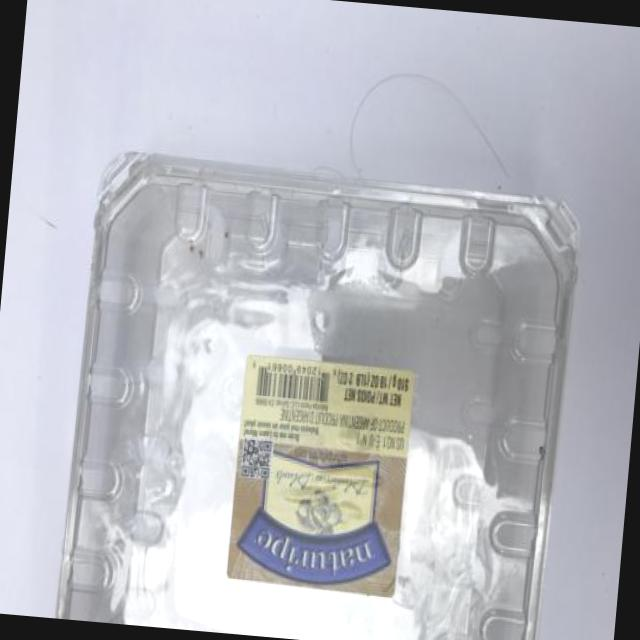Trash: (59, 145, 590, 640)
